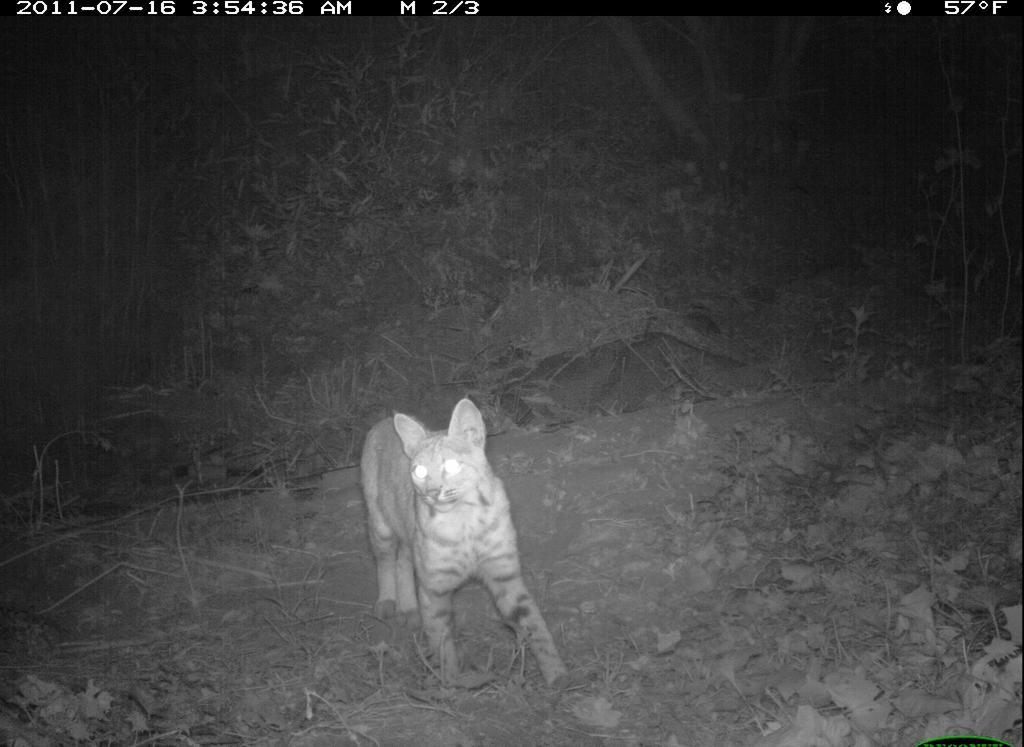bobcat: (342, 401, 580, 698)
